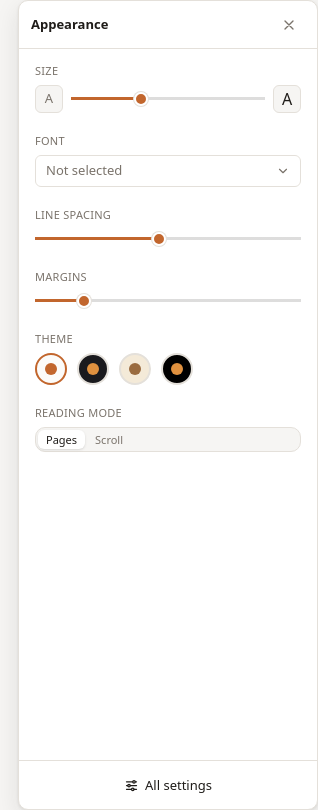
Scenario: QuickSettings generic font fallbacks (§5.4) › offers the generic serif/sans families with English labels
Click the dropdown named "Font". click: [84, 170]
box: 35,155 -> 301,187
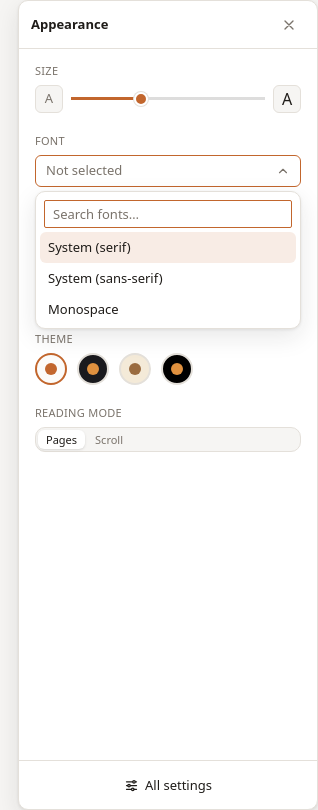
Now the text "System (serif)" is shown, box 48,238 -> 131,257
Now the text "System (sans-serif)" is shown, box 48,269 -> 163,288
Now the text "Monospace" is shown, box 48,300 -> 119,318
